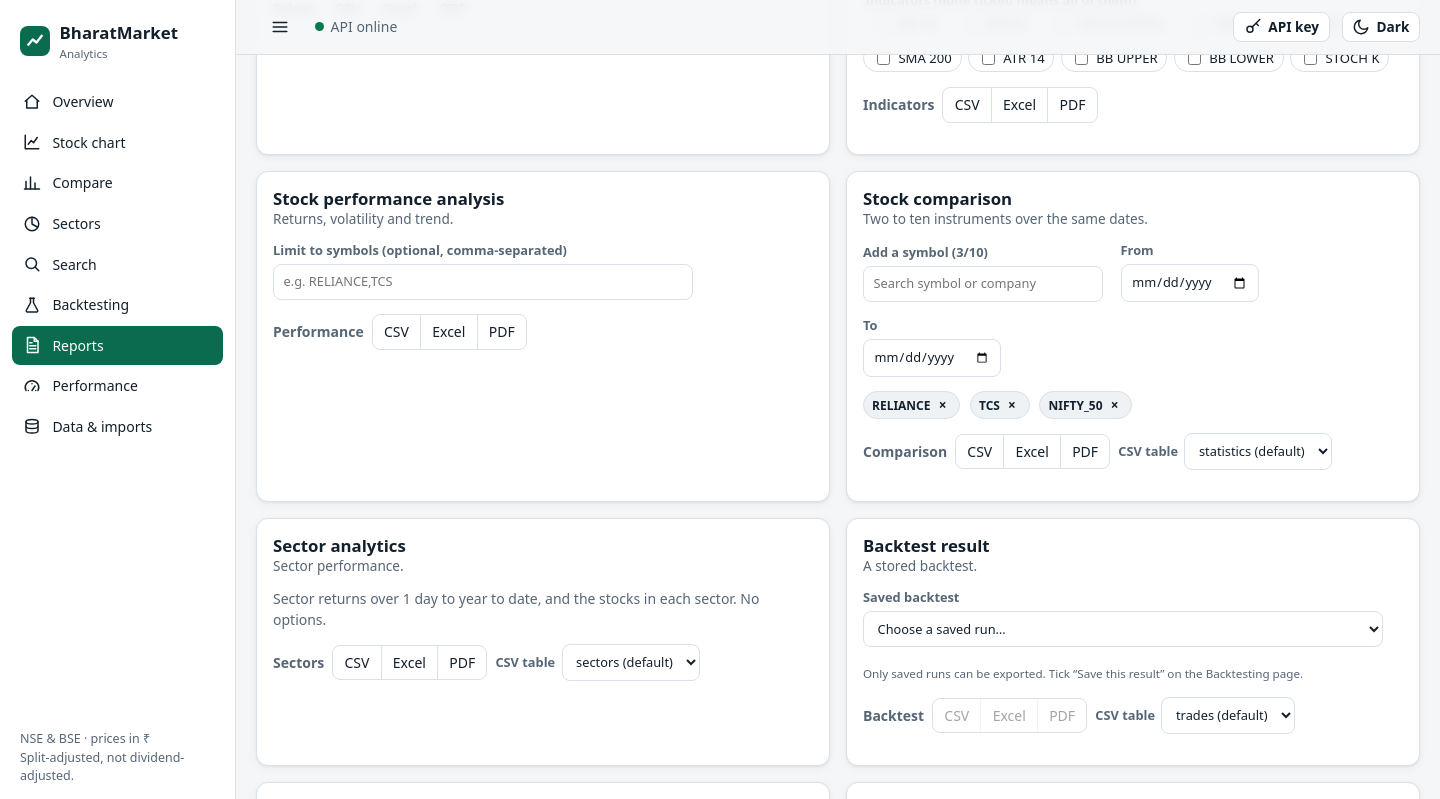
Scenario: Reports page › needs two symbols to compare
The image size is (1440, 799).
(page scrolled)
expect the button with aria-label "Comparison as PDF" is enabled: met, box [1061,434,1109,468]
Step 1. Click the button named "Remove TCS" → click(1012, 405), box [1003,394,1021,416]
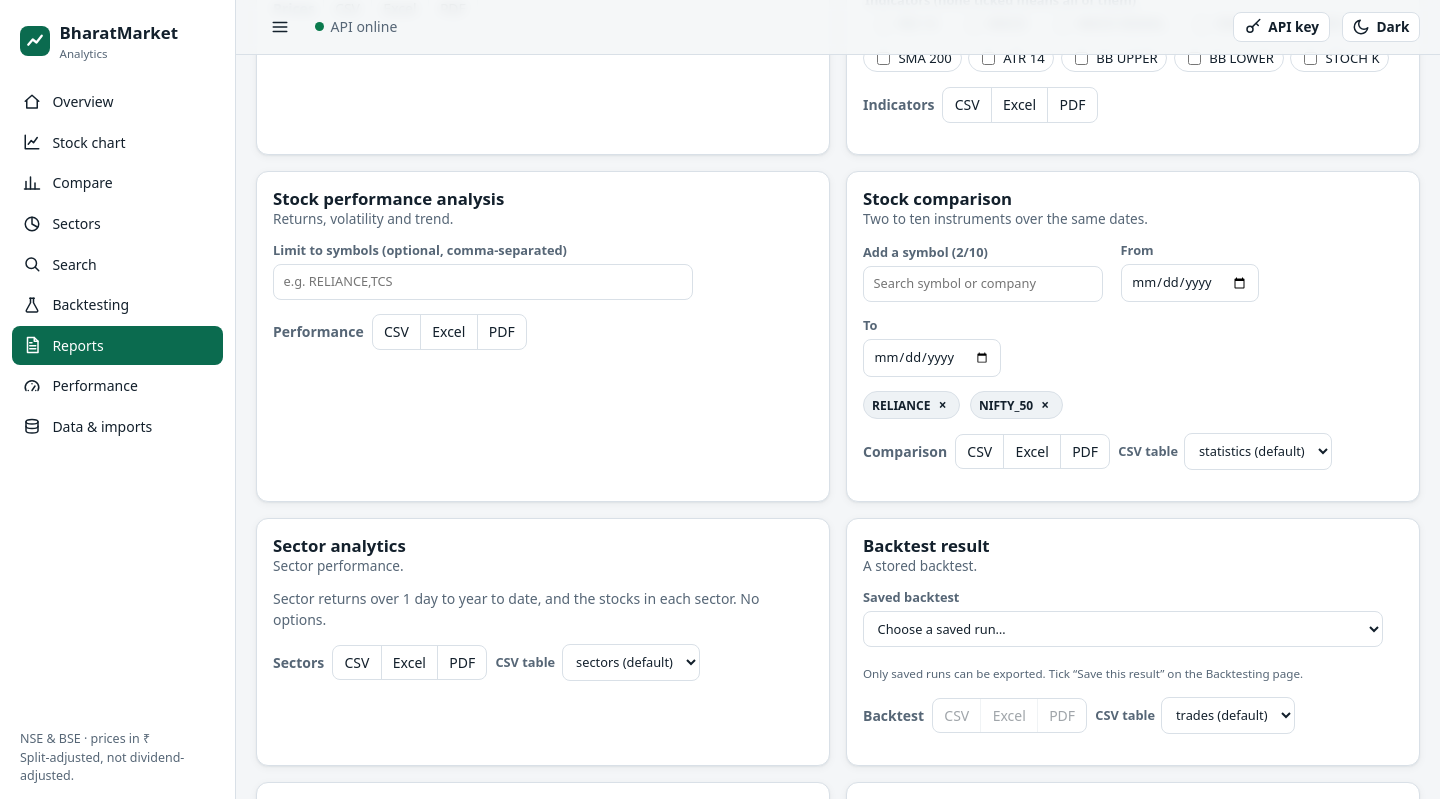
Step 2. Click the button named "Remove NIFTY_50" → click(1045, 405), box [1036,394,1054,416]
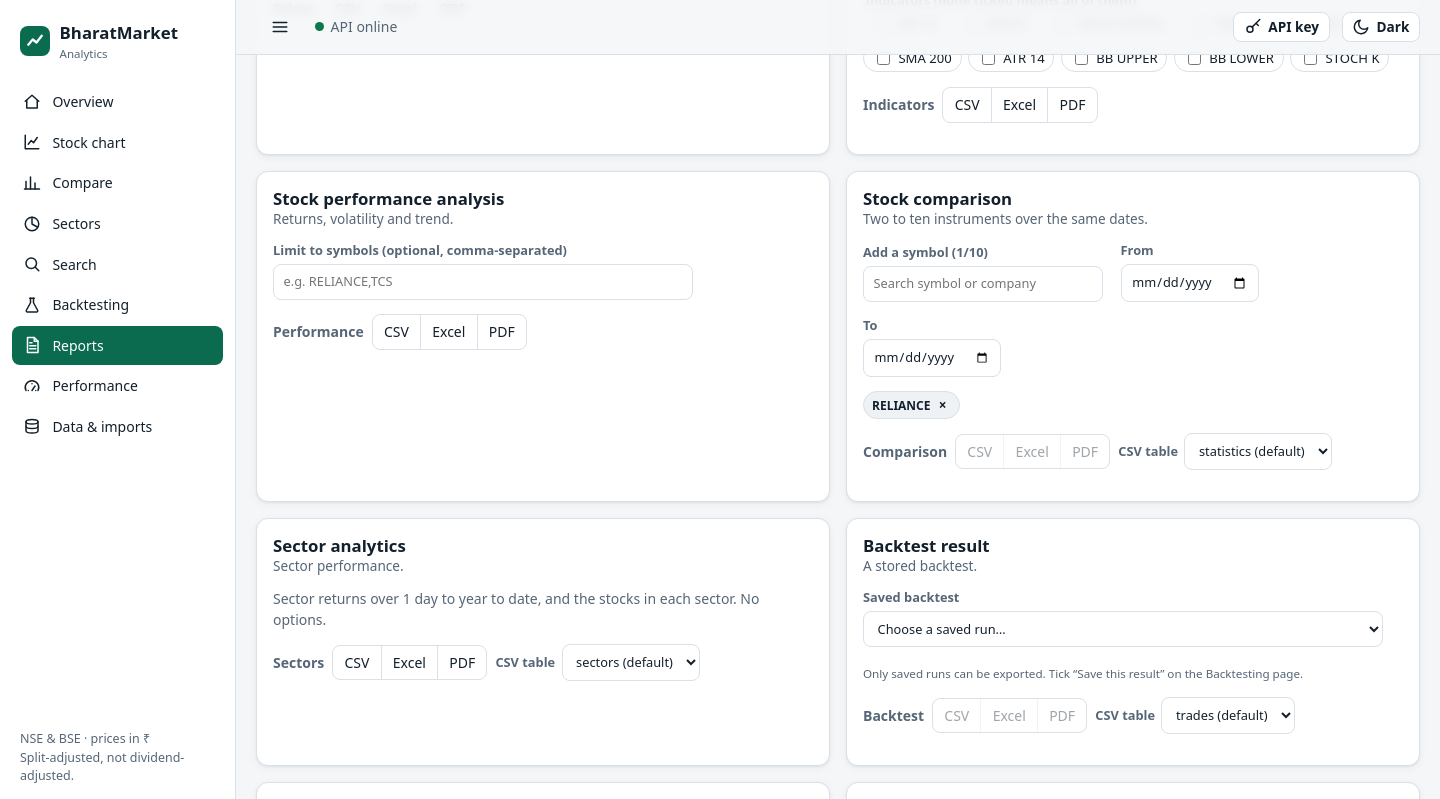
expect the button with aria-label "Comparison as PDF" is disabled: met, box [1061,434,1109,468]
